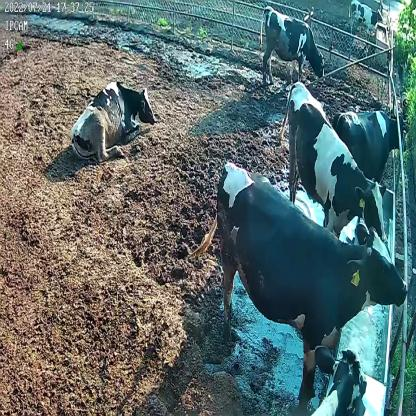cow: (216, 153, 410, 403), (283, 80, 390, 247), (70, 78, 156, 159), (259, 2, 327, 86), (333, 110, 404, 176)
